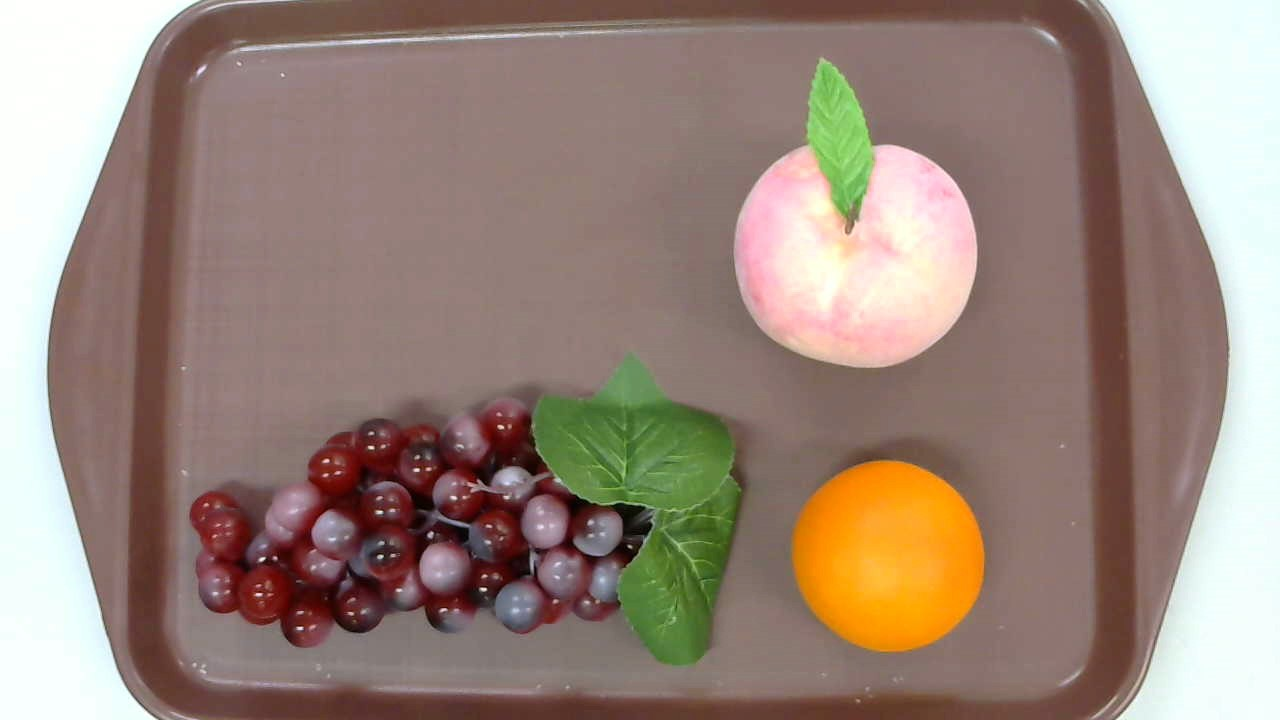bun: (791, 459, 985, 654)
grape: (190, 350, 741, 666)
peach: (732, 55, 977, 372)
